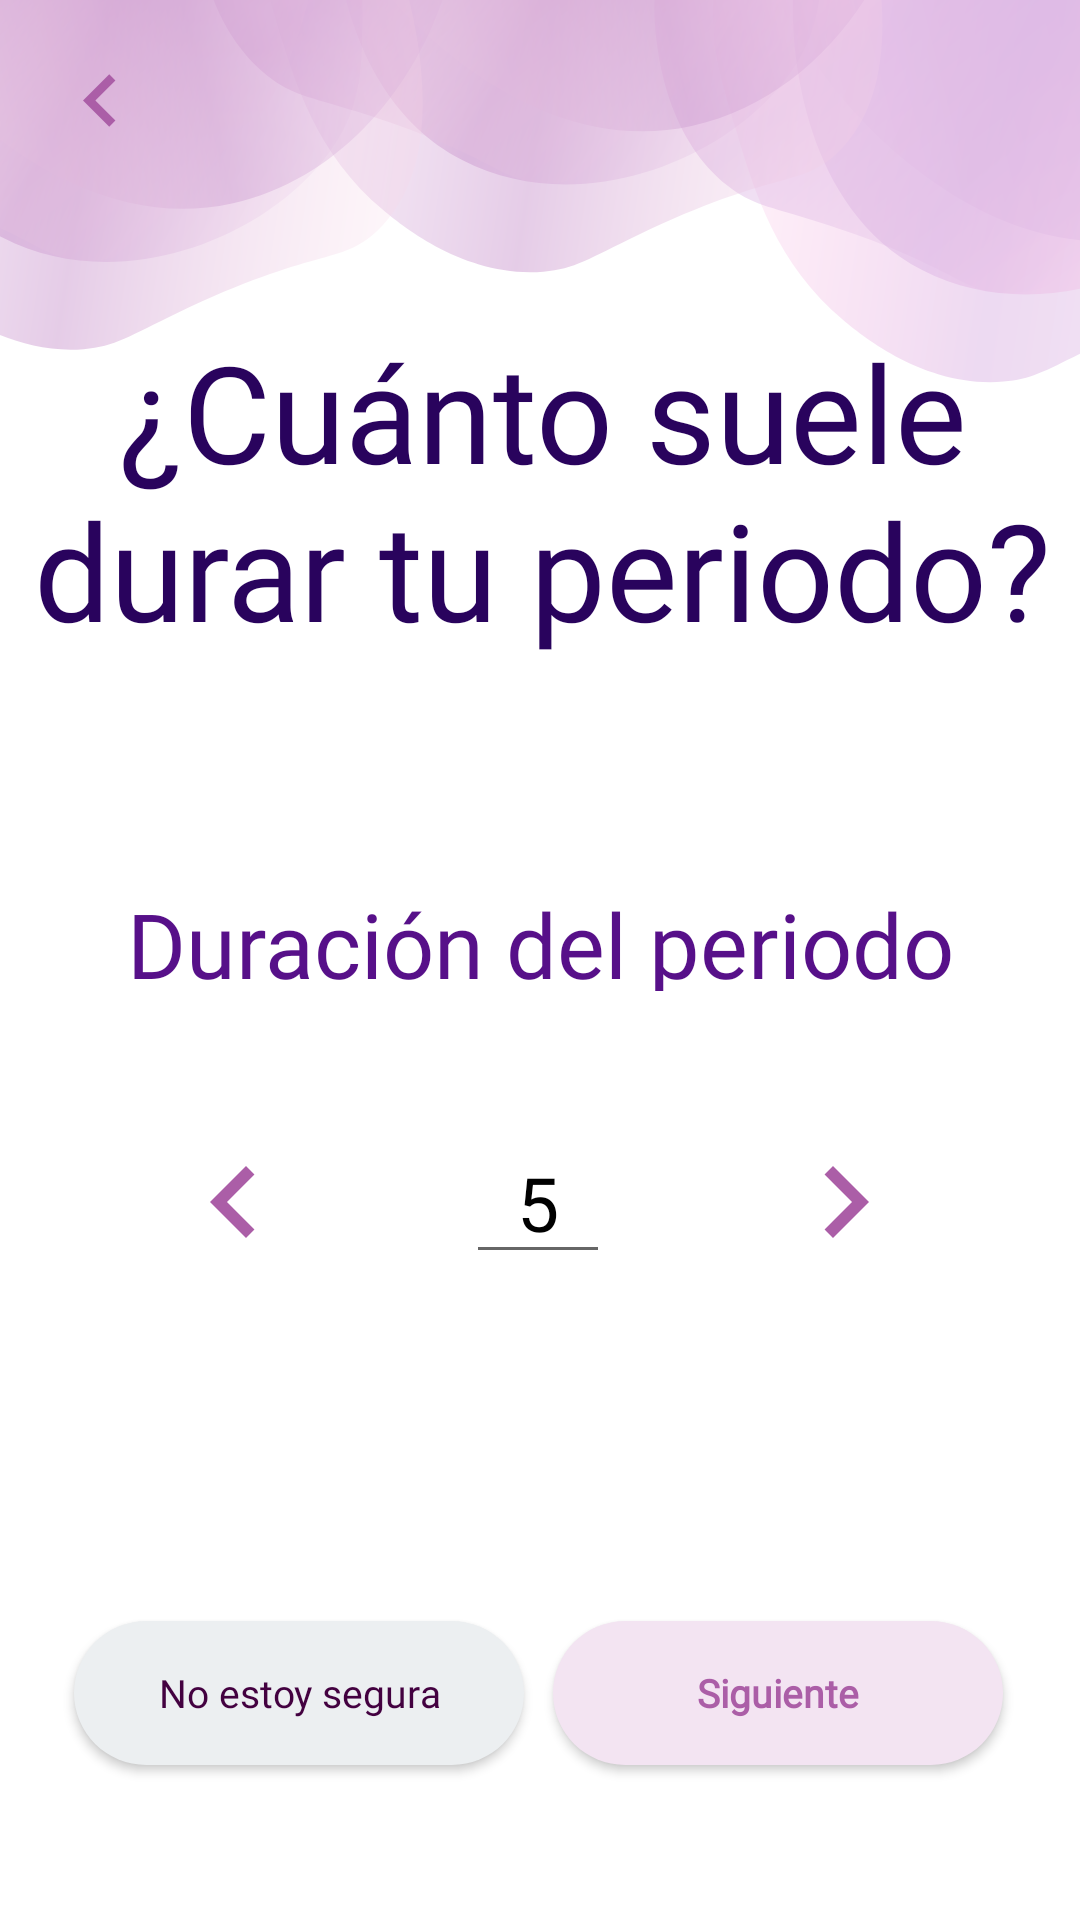

Icon click points for this 1080px×1920px phone screenshot, format (x=x, y=y):
chevron left: (x=99, y=100), (x=232, y=1202)
chevron right: (x=846, y=1202)
